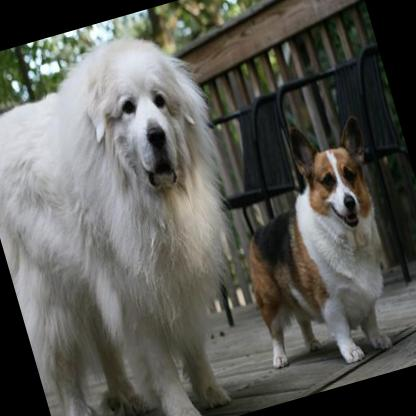Great_Pyrenees: (0, 16, 290, 416)
